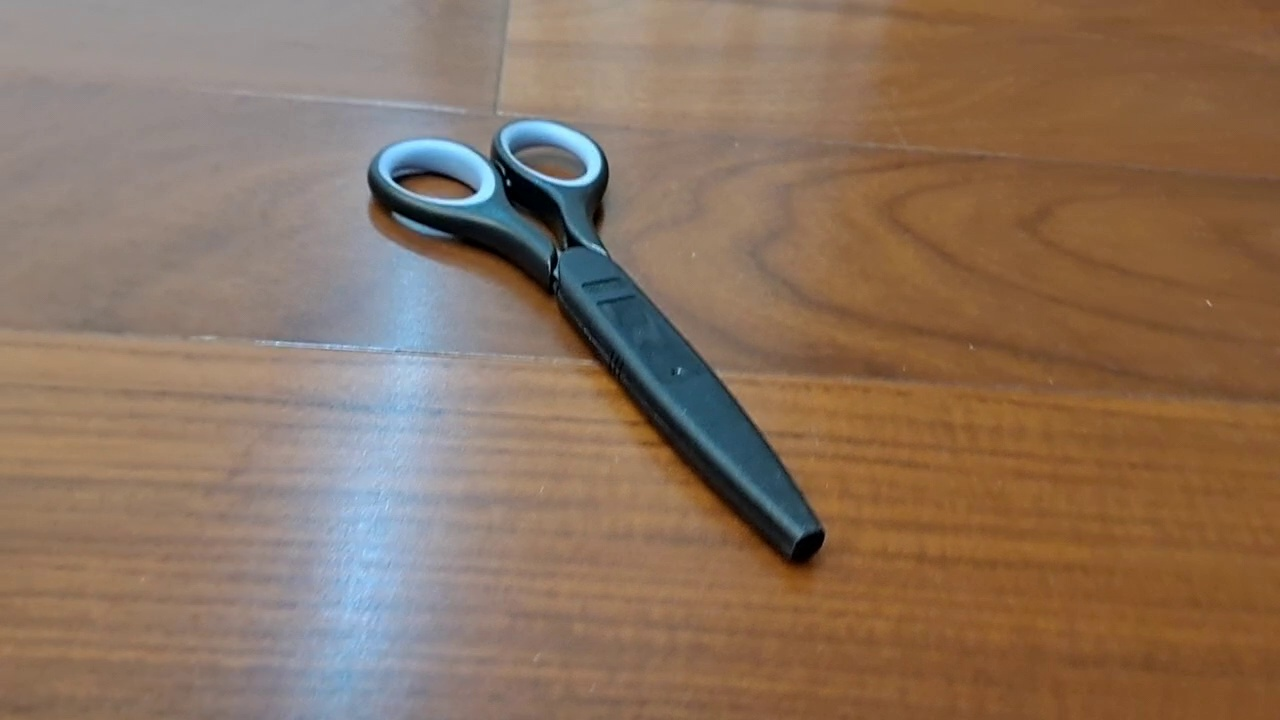scissors: (367, 118, 826, 564)
